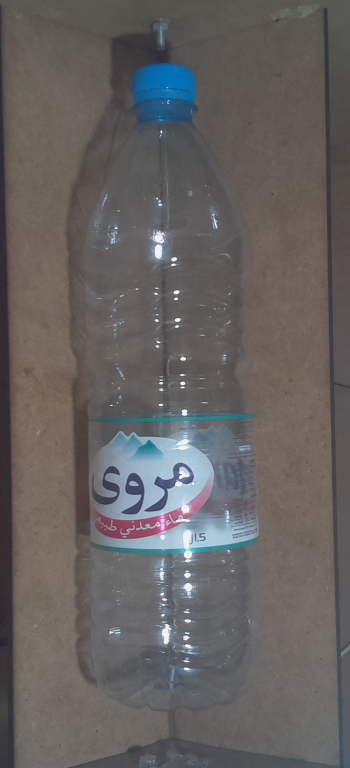Bouteille_1.5L: (77, 61, 271, 719)
